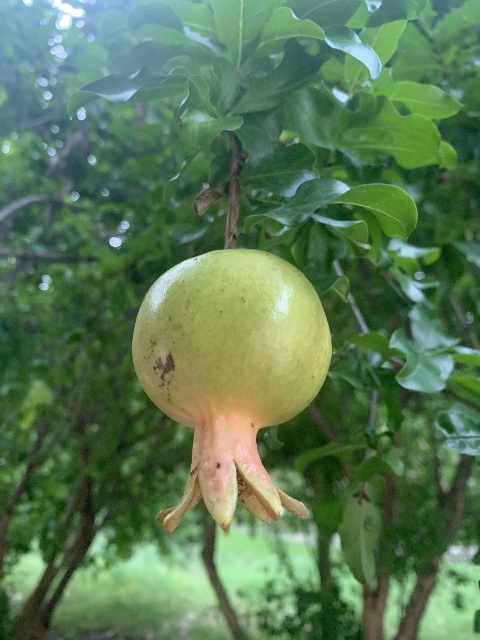mid-growth: (131, 246, 333, 534)
